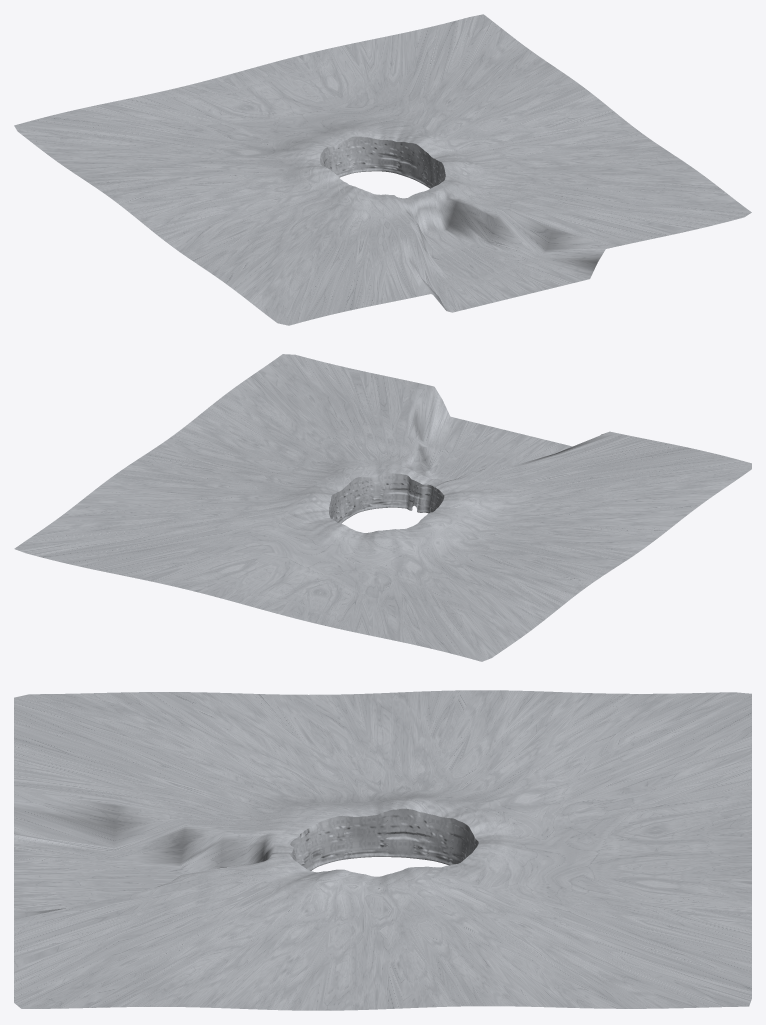
Rendered from excavation-macro-lod1.glb.
3 views of the same model, one above another, from view 1: azimuth 30°, elevation 25°; view 2: azimuth 150°, elevation 25°; view 3: azimuth 270°, elevation 25° (orthographic). The views are drawn at different scales.
Parts seen in each view (by area): view 1: Excavation_Macro_Sector_06_LOD1, Excavation_Macro_Sector_00_LOD1, Excavation_Macro_Sector_05_LOD1, Excavation_Macro_Sector_02_LOD1, Excavation_Macro_Sector_04_LOD1, Excavation_Macro_Sector_15_LOD1, Excavation_Macro_Sector_07_LOD1, Excavation_Macro_Sector_08_LOD1, Excavation_Macro_Sector_13_LOD1, Excavation_Macro_Sector_10_LOD1, Excavation_Macro_Sector_17_LOD1, Excavation_Macro_Sector_12_LOD1 (+5 smaller); view 2: Excavation_Macro_Sector_06_LOD1, Excavation_Macro_Sector_02_LOD1, Excavation_Macro_Sector_04_LOD1, Excavation_Macro_Sector_15_LOD1, Excavation_Macro_Sector_05_LOD1, Excavation_Macro_Sector_10_LOD1, Excavation_Macro_Sector_07_LOD1, Excavation_Macro_Sector_13_LOD1, Excavation_Macro_Sector_00_LOD1, Excavation_Macro_Sector_08_LOD1, Excavation_Macro_Sector_12_LOD1, Excavation_Macro_Sector_17_LOD1 (+5 smaller); view 3: Excavation_Macro_Sector_06_LOD1, Excavation_Macro_Sector_17_LOD1, Excavation_Macro_Sector_02_LOD1, Excavation_Macro_Sector_04_LOD1, Excavation_Macro_Sector_05_LOD1, Excavation_Macro_Sector_15_LOD1, Excavation_Macro_Sector_10_LOD1, Excavation_Macro_Sector_13_LOD1, Excavation_Macro_Sector_07_LOD1, Excavation_Macro_Sector_08_LOD1, Excavation_Macro_Sector_12_LOD1, Excavation_Macro_Sector_09_LOD1 (+5 smaller).
Boxes of the visible parts, <box> form: Excavation_Macro_Sector_06_LOD1: <box>383,14,542,177</box>; Excavation_Macro_Sector_00_LOD1: <box>412,183,621,299</box>; Excavation_Macro_Sector_05_LOD1: <box>409,59,630,187</box>; Excavation_Macro_Sector_02_LOD1: <box>441,170,751,244</box>; Excavation_Macro_Sector_04_LOD1: <box>428,125,721,189</box>; Excavation_Macro_Sector_15_LOD1: <box>226,186,372,325</box>; Excavation_Macro_Sector_07_LOD1: <box>256,36,386,172</box>; Excavation_Macro_Sector_08_LOD1: <box>134,67,353,177</box>; Excavation_Macro_Sector_13_LOD1: <box>139,174,351,274</box>; Excavation_Macro_Sector_10_LOD1: <box>14,109,324,166</box>; Excavation_Macro_Sector_17_LOD1: <box>383,194,502,312</box>; Excavation_Macro_Sector_12_LOD1: <box>80,166,335,219</box>; Excavation_Macro_Sector_06_LOD1: <box>14,498,332,572</box>; Excavation_Macro_Sector_02_LOD1: <box>266,354,416,510</box>; Excavation_Macro_Sector_04_LOD1: <box>162,375,362,520</box>; Excavation_Macro_Sector_15_LOD1: <box>442,452,751,510</box>; Excavation_Macro_Sector_05_LOD1: <box>74,443,344,523</box>; Excavation_Macro_Sector_10_LOD1: <box>393,526,521,661</box>; Excavation_Macro_Sector_07_LOD1: <box>110,516,346,603</box>; Excavation_Macro_Sector_13_LOD1: <box>430,505,686,569</box>; Excavation_Macro_Sector_00_LOD1: <box>391,383,536,512</box>; Excavation_Macro_Sector_08_LOD1: <box>240,526,379,633</box>; Excavation_Macro_Sector_12_LOD1: <box>419,513,612,612</box>; Excavation_Macro_Sector_17_LOD1: <box>418,431,654,513</box>; Excavation_Macro_Sector_06_LOD1: <box>419,864,751,1008</box>; Excavation_Macro_Sector_17_LOD1: <box>14,762,313,880</box>; Excavation_Macro_Sector_02_LOD1: <box>14,861,326,1008</box>; Excavation_Macro_Sector_04_LOD1: <box>104,869,376,1010</box>; Excavation_Macro_Sector_05_LOD1: <box>348,867,587,1010</box>; Excavation_Macro_Sector_15_LOD1: <box>14,692,346,865</box>; Excavation_Macro_Sector_10_LOD1: <box>427,692,751,865</box>; Excavation_Macro_Sector_13_LOD1: <box>204,692,405,858</box>; Excavation_Macro_Sector_07_LOD1: <box>457,843,751,942</box>; Excavation_Macro_Sector_08_LOD1: <box>462,775,751,860</box>; Excavation_Macro_Sector_12_LOD1: <box>387,690,564,858</box>; Excavation_Macro_Sector_09_LOD1: <box>450,735,751,865</box>.
Bounding box in the file's own units: 560 × 40.23 × 560.
1 material, 1 textured.
